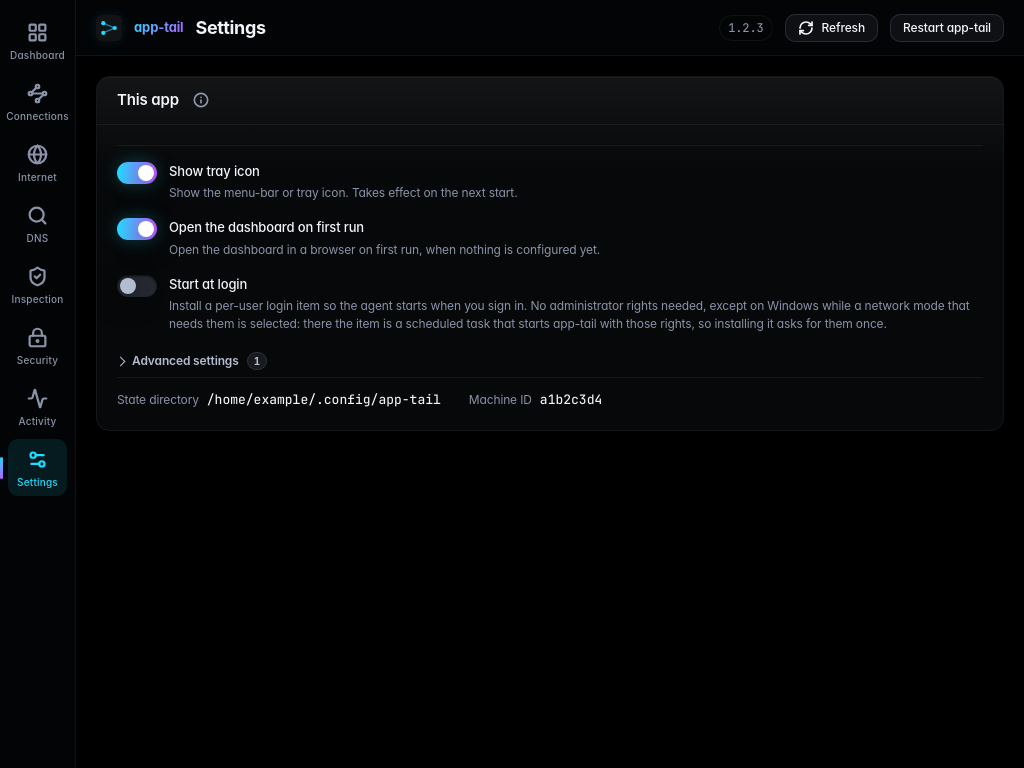
Scenario: a setting that needs administrator rights › says the rights are asked for at start, and offers a restart
This screenshot has width=1024, height=768.
Click the checkbox named "Show tray icon". click: (137, 172)
box: [117,162,157,184]
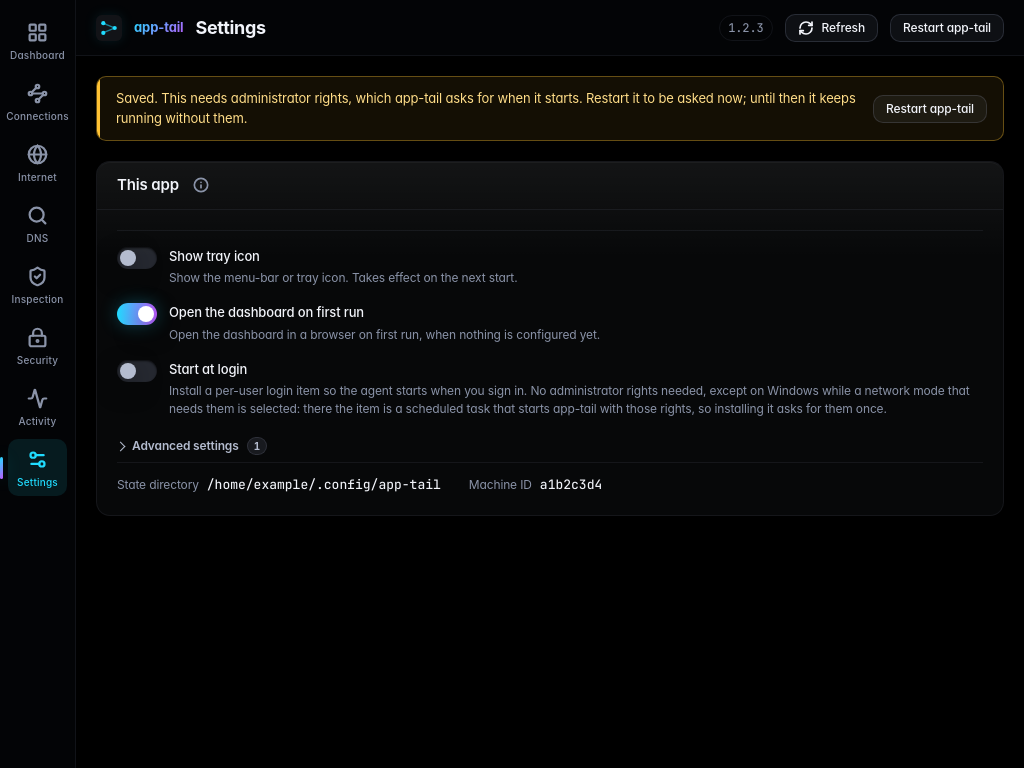
Expected: the text "asks for when it starts" is shown, [116,90,856,126]
Expected: the 2nd button "Restart app-tail" is shown, [873,94,987,122]
